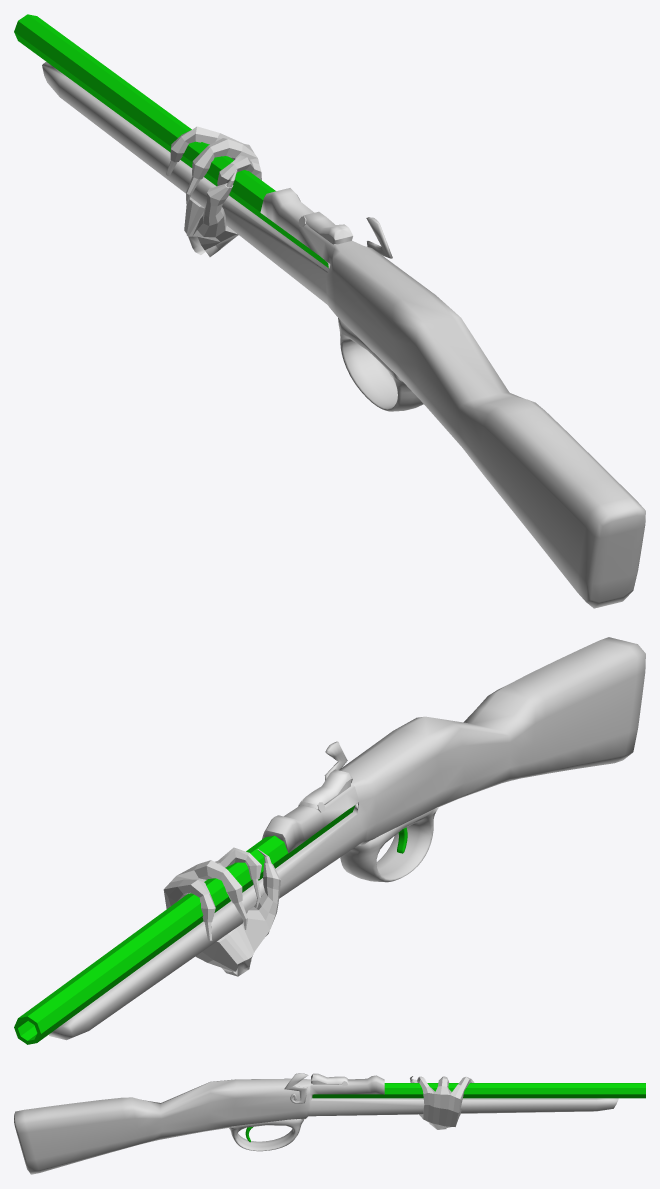
Rendered from DEF_rifle.fbx.
The picture shows the model from 3 angles, top to bottom: view 1: azimuth 30°, elevation 25°; view 2: azimuth 150°, elevation 25°; view 3: azimuth 270°, elevation 25°; orthographic projection. The views are drawn at different scales.
Parts seen in each view (by area): view 1: rifle, botola_rifle; view 2: rifle, botola_rifle; view 3: rifle, grilletto_rifle, botola_rifle.
Part boxes in pixels (x1,y1,x2,y2): rifle: [14, 14, 645, 608]; botola_rifle: [303, 211, 352, 244]; rifle: [14, 637, 645, 1044]; botola_rifle: [300, 769, 352, 809]; rifle: [14, 1075, 645, 1174]; grilletto_rifle: [284, 1073, 308, 1103]; botola_rifle: [311, 1073, 348, 1084].
Size of the model in its own units: 56.62 by 138 by 772.
